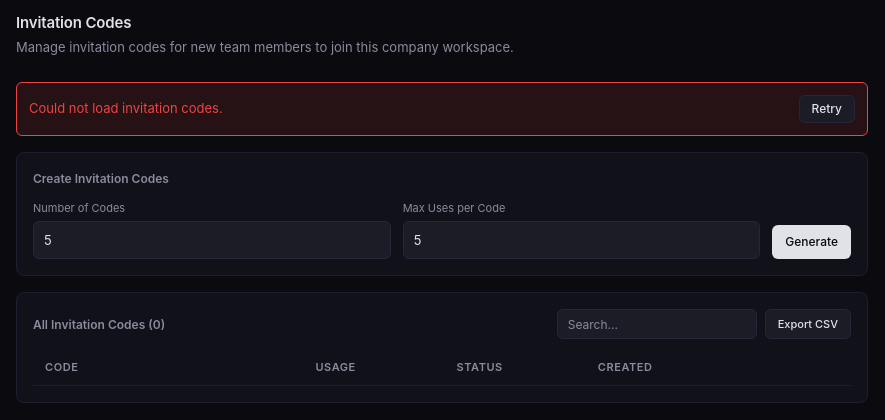
Test: InvitationCodes recovery › shows a retryable state when the invitation list cannot load
Expected: the message shows "Could not load invitation codes.", x1=29 y1=100 x2=223 y2=116
Step 1. Click the button "Retry" → (827, 108), box x1=798 y1=94 x2=855 y2=122
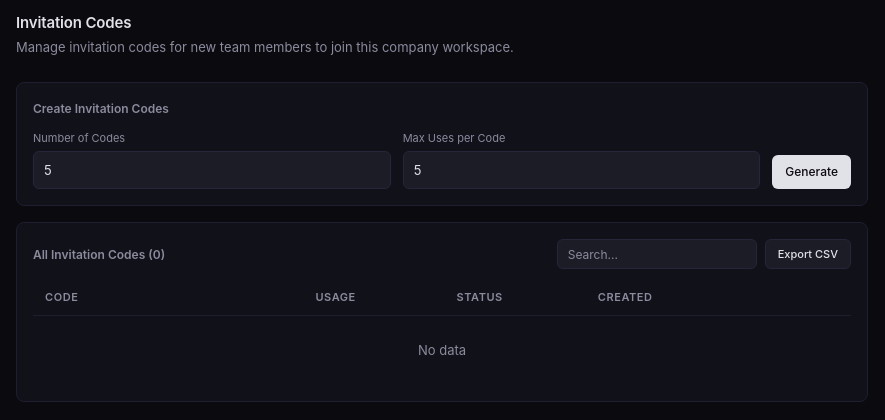
Now the message "Could not load invitation codes. Retry" is gone
